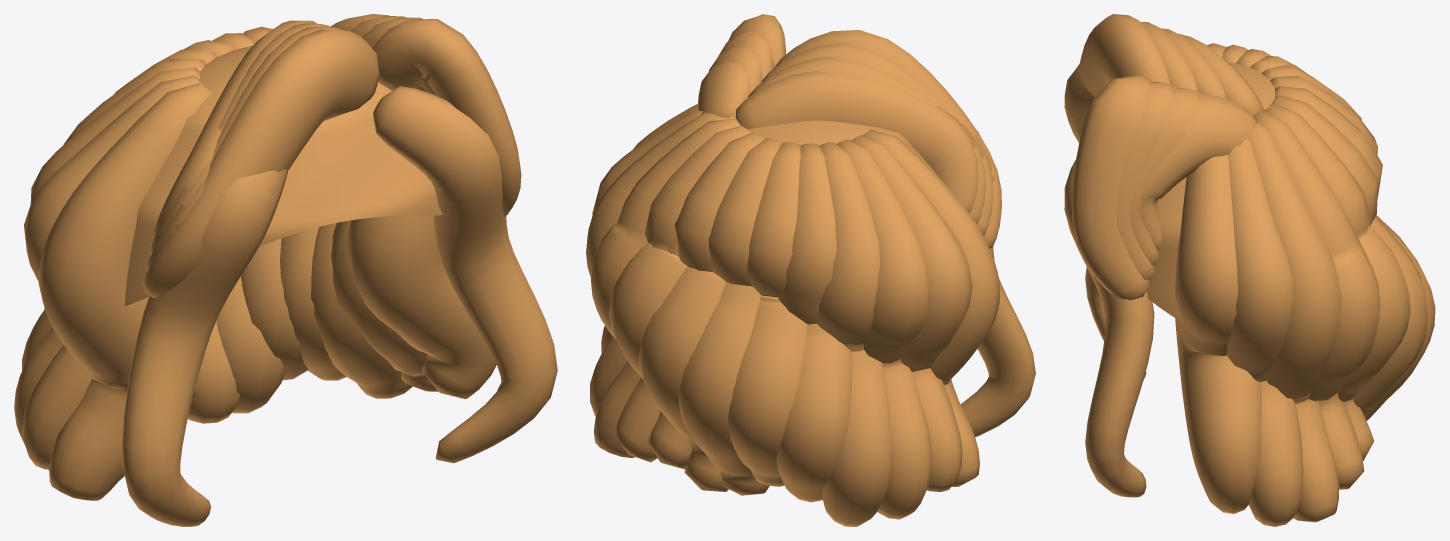
Rendered from studio_wavy_bob_long.glb.
3 views of the same model, side by side, from view 1: azimuth 30°, elevation 25°; view 2: azimuth 150°, elevation 25°; view 3: azimuth 270°, elevation 25° (orthographic). The views are drawn at different scales.
Parts seen in each view (by area): view 1: wavy_bob; view 2: wavy_bob; view 3: wavy_bob.
Boxes of the visible parts, x1,y1,x2,y2 form: wavy_bob: [14, 14, 557, 526]; wavy_bob: [586, 14, 1035, 526]; wavy_bob: [1064, 14, 1435, 526].
Bounding box in the file's own units: 0.6257 × 0.6219 × 0.4876.
